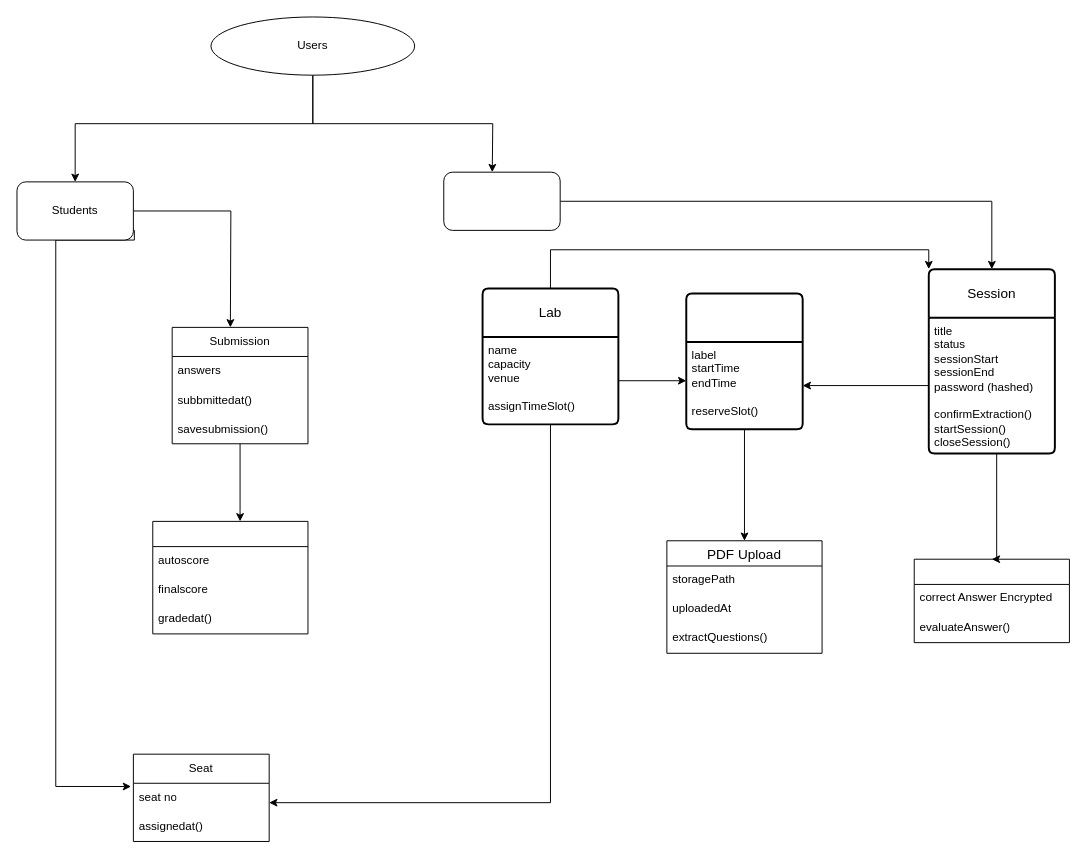
Image size: 1086x858. Some labels were removed from this diagram. The box of each missing label's shape, as (x1, y1, x2, y2) in pixels:
Question: (913, 558, 1069, 643)
result: (152, 520, 308, 634)
Teachers: (443, 171, 560, 230)
TimeSlot: (685, 292, 803, 430)
